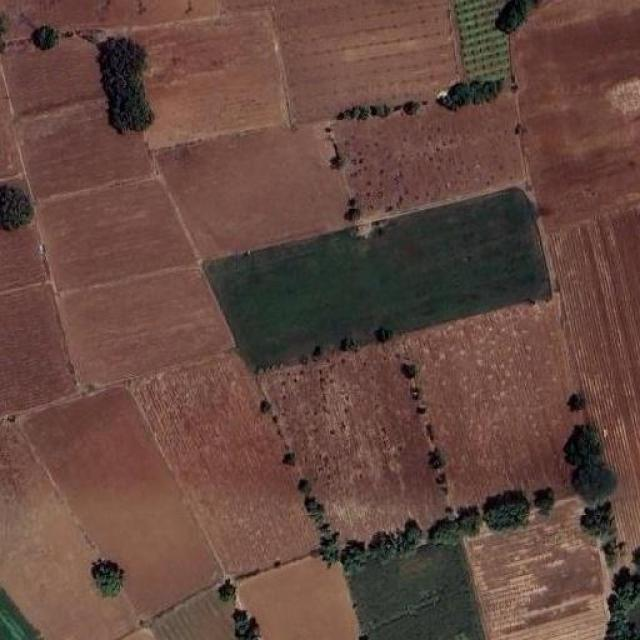land-Sx1C: (24, 389, 220, 617), (132, 352, 316, 575), (408, 298, 584, 504), (260, 348, 444, 539), (548, 206, 640, 544), (0, 420, 136, 640), (512, 0, 640, 230), (158, 125, 359, 259), (335, 91, 524, 217), (275, 0, 459, 122), (131, 11, 289, 149), (464, 496, 609, 640), (60, 266, 232, 383), (42, 181, 192, 289), (18, 98, 152, 198), (349, 545, 484, 640), (239, 556, 358, 640), (0, 285, 75, 413), (4, 39, 104, 116), (0, 0, 220, 28), (151, 589, 235, 640), (456, 0, 510, 79), (0, 225, 46, 291), (0, 64, 21, 178), (0, 588, 39, 639)
